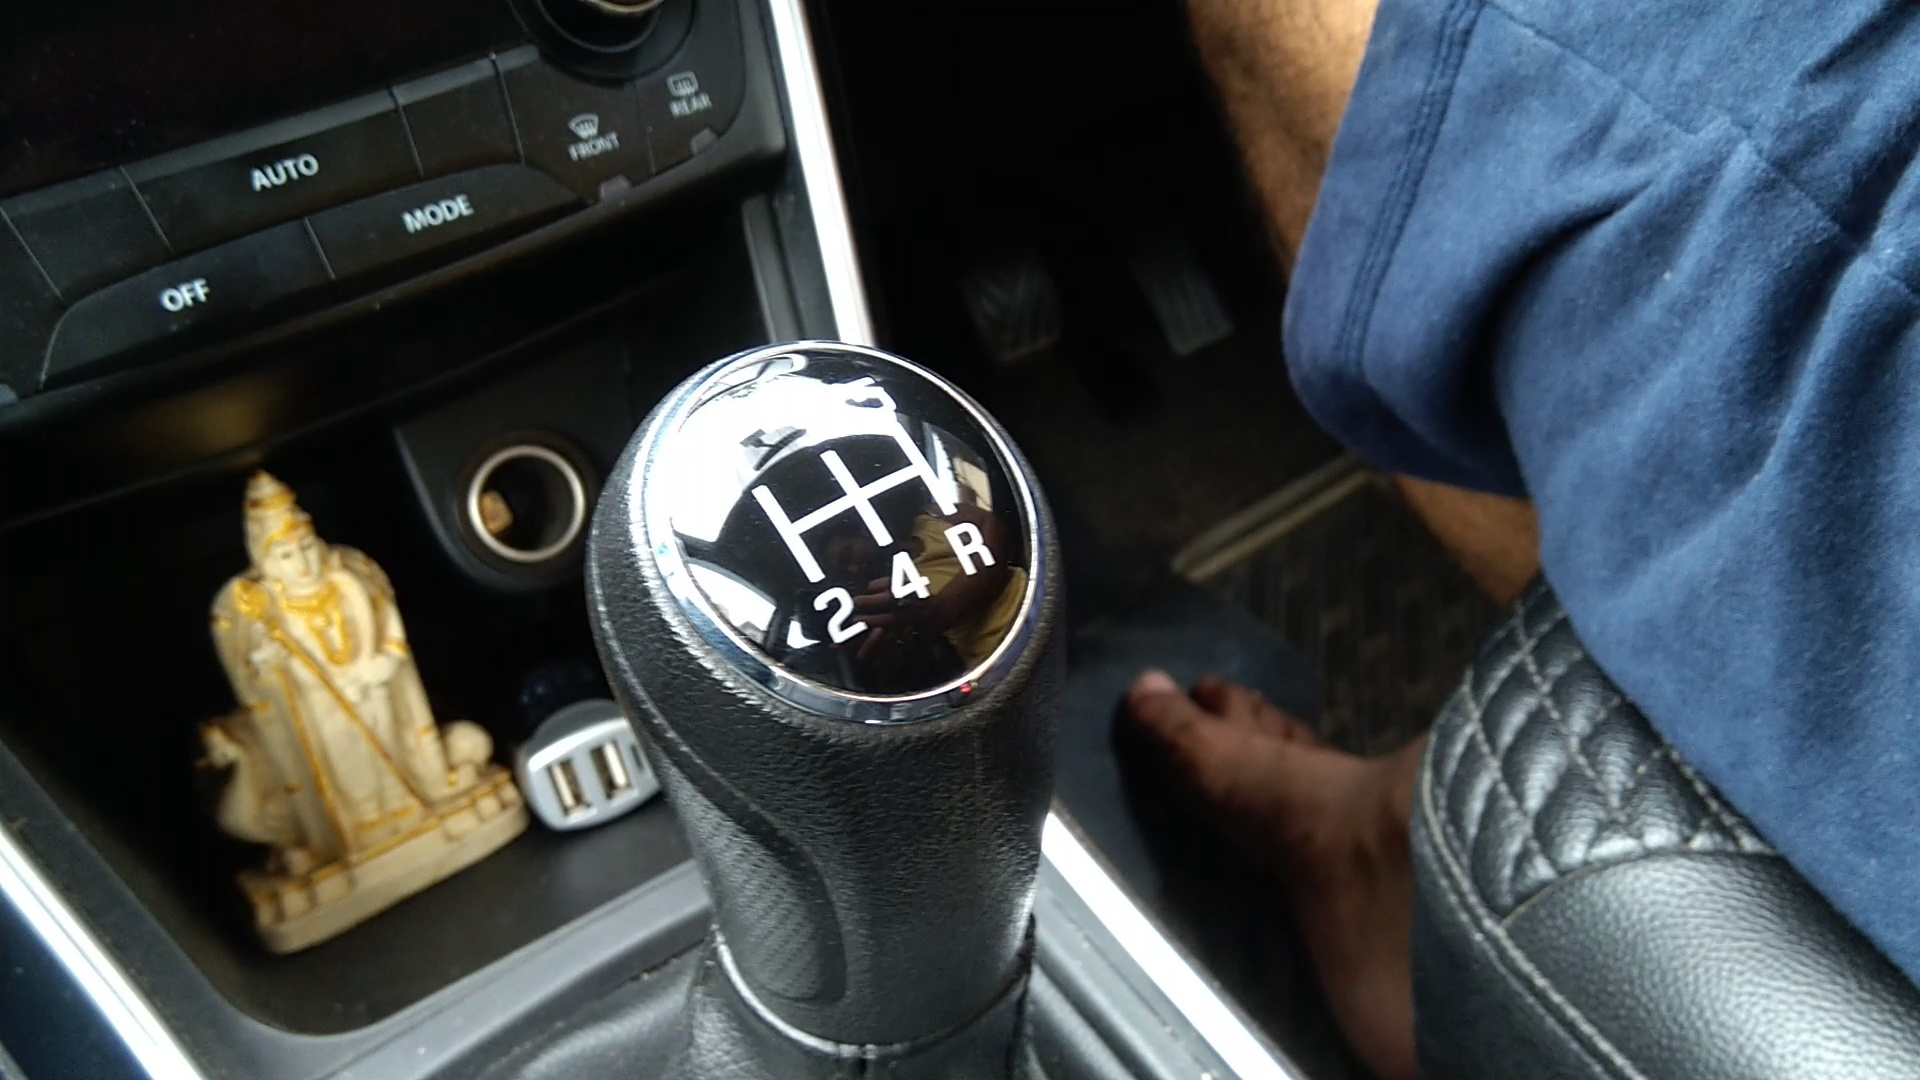manual_gear: (560, 322, 1098, 1080)
